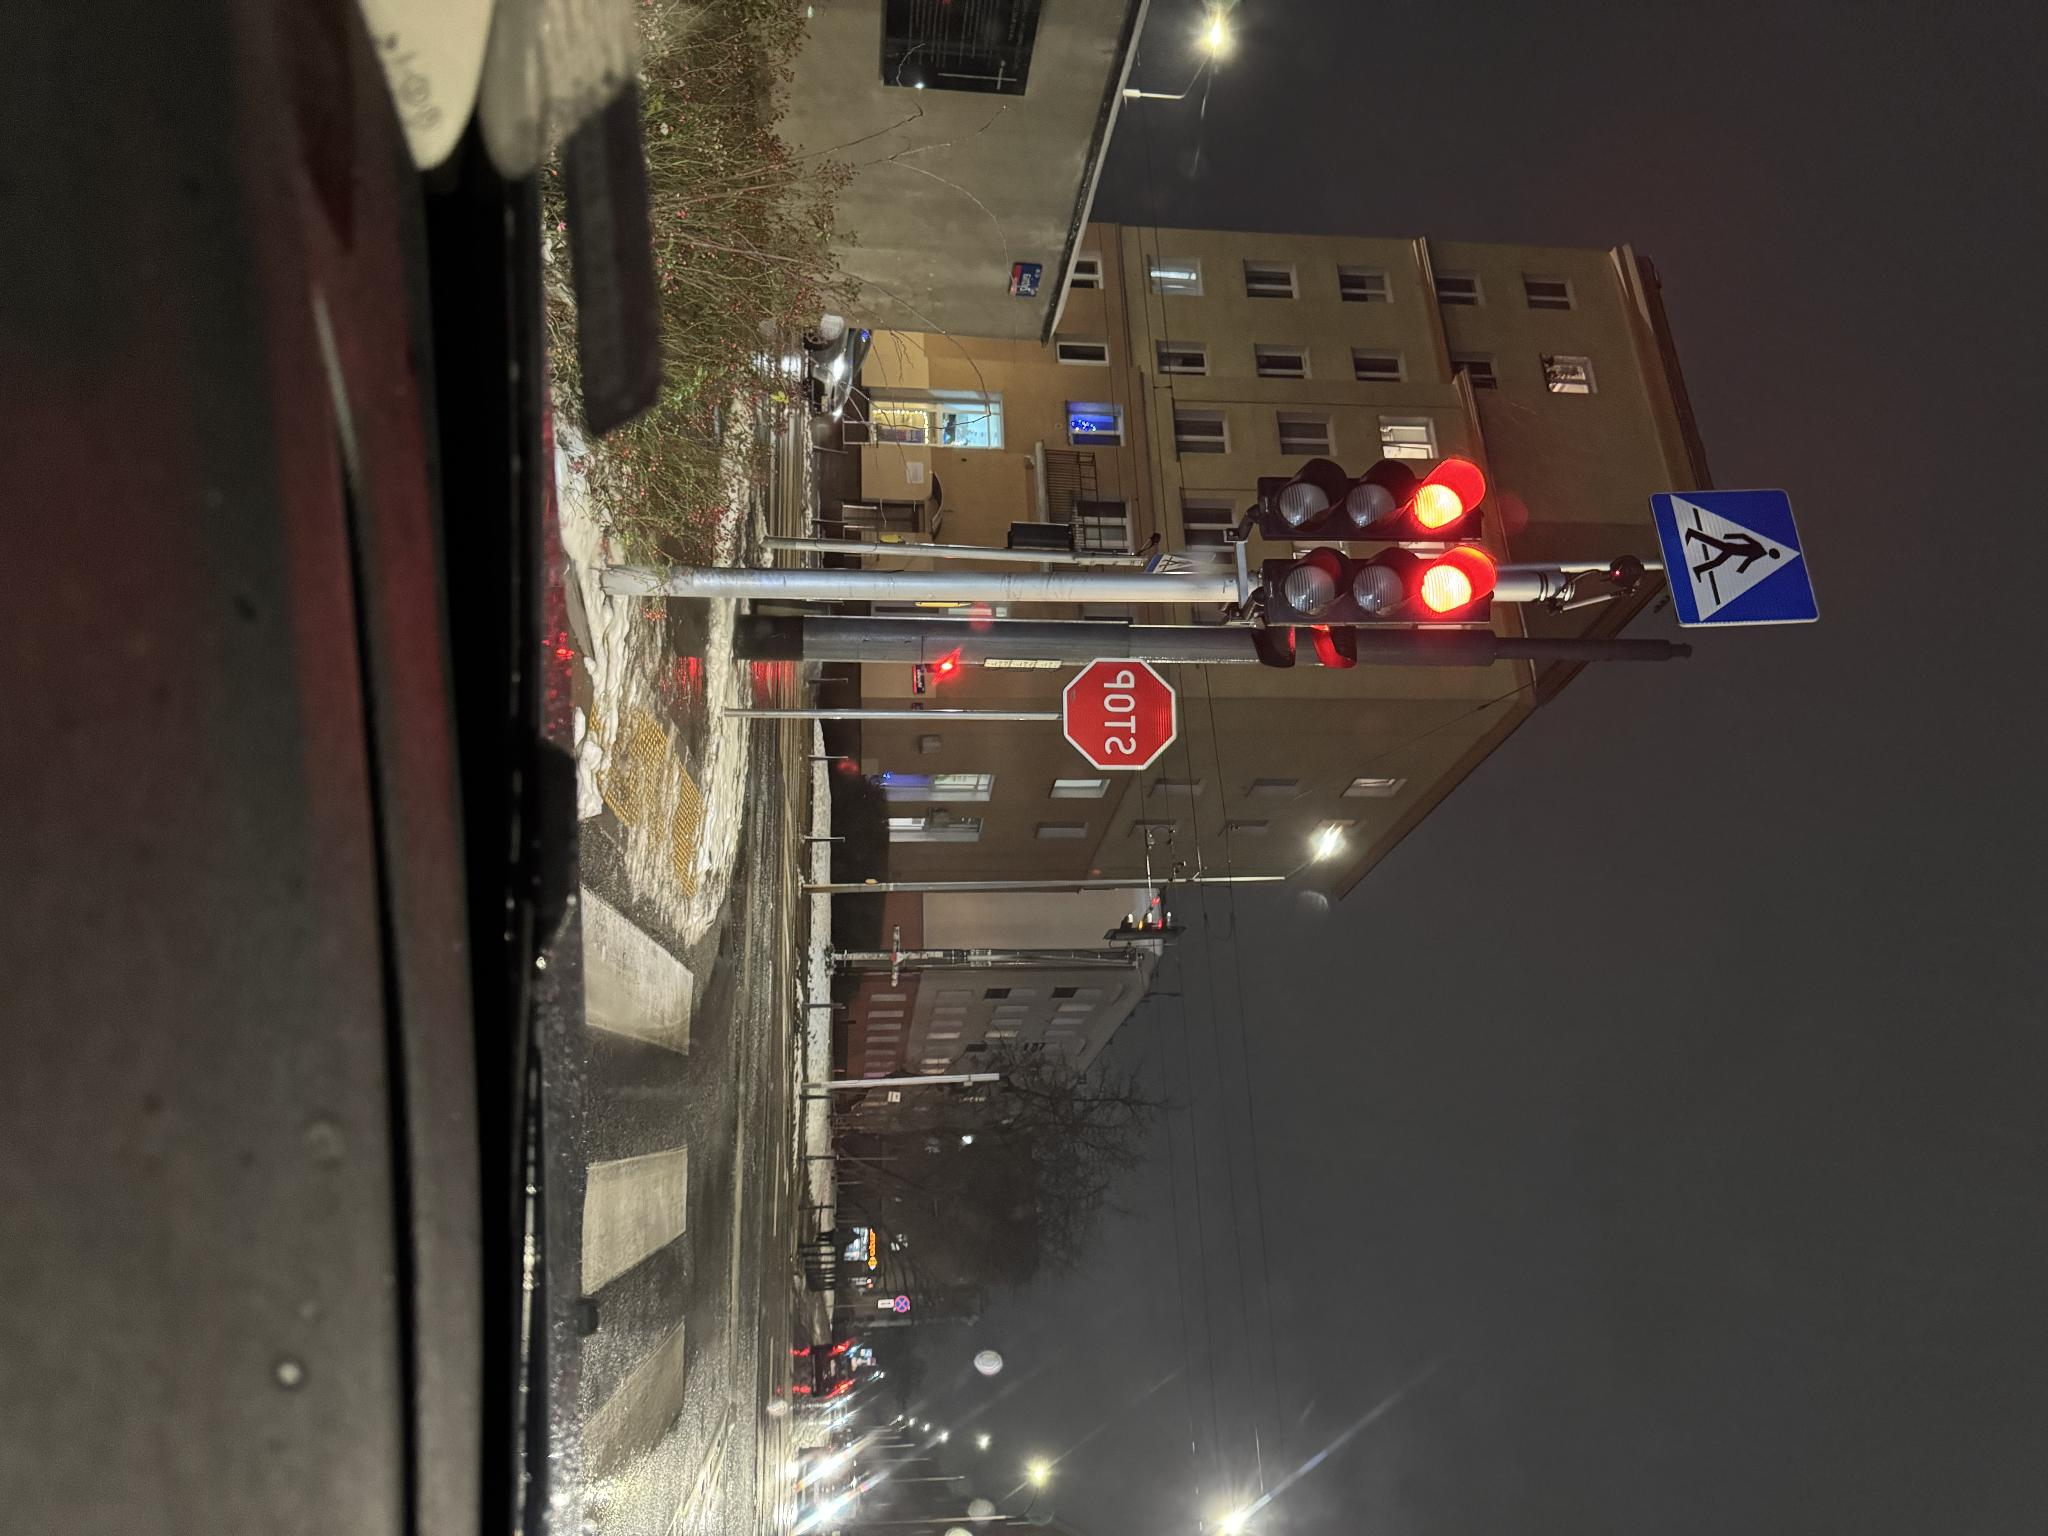information: (1000, 226, 1140, 400)
other: (1811, 1154, 1821, 1170)
prohibitory: (1169, 871, 1282, 987), (1808, 1139, 1824, 1154)
